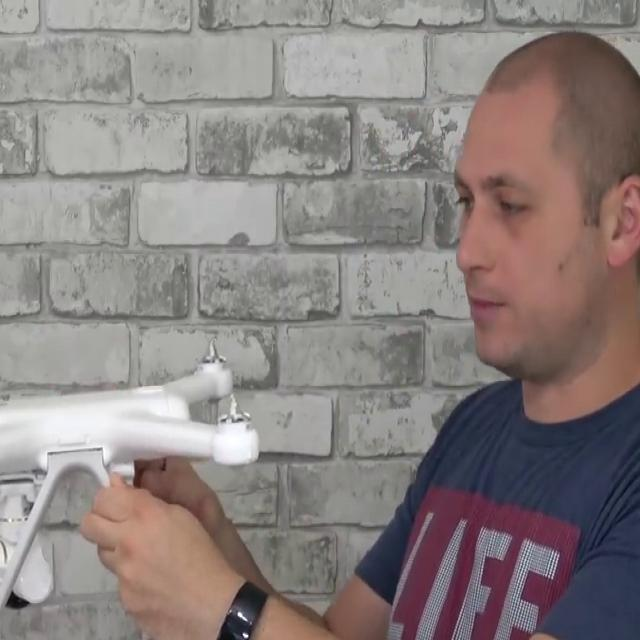drone: (0, 350, 312, 484)
